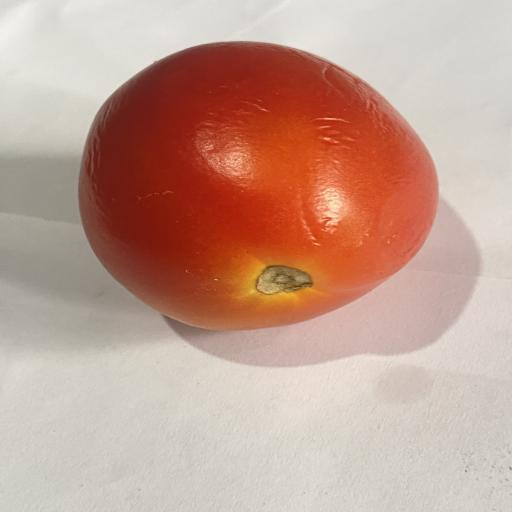spoiled: (79, 42, 438, 330)
